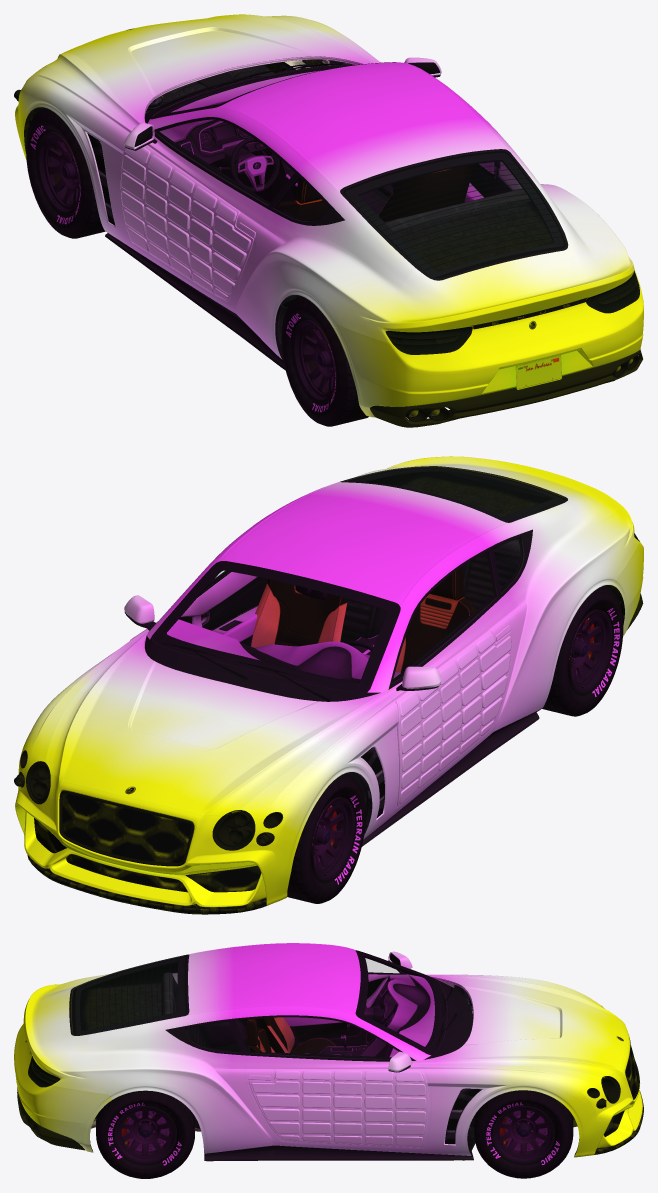
File: paragon2.glb
The picture shows the model from 3 angles, top to bottom: view 1: azimuth 30°, elevation 25°; view 2: azimuth 150°, elevation 25°; view 3: azimuth 270°, elevation 25°; orthographic projection. The views are drawn at different scales.
Visible parts, largest first — view 1: bodyshell, chassis, misc_g, windscreen_r, bonnet, boot, bumper_r, misc_x, wheel_lr, wheel_lf, misc_z, window_lf (+8 smaller); view 2: bodyshell, bonnet, misc_g, chassis, misc_x, misc_c, misc_r, misc_z, wheel_lf, wheel_lr, misc_d, windscreen_r (+7 smaller); view 3: bodyshell, bonnet, chassis, misc_y, misc_g, wheel_rf, wheel_rr, windscreen_r, window_rf, boot, bumper_r, door_pside_f (+8 smaller).
Boxes of the visible parts, bbox=[...] form: bodyshell: bbox=[15, 15, 639, 358]; chassis: bbox=[24, 59, 639, 360]; misc_g: bbox=[219, 62, 505, 189]; windscreen_r: bbox=[343, 151, 564, 278]; bonnet: bbox=[45, 14, 375, 127]; boot: bbox=[393, 233, 622, 362]; bumper_r: bbox=[334, 283, 643, 421]; misc_x: bbox=[120, 145, 253, 301]; wheel_lr: bbox=[281, 295, 368, 426]; wheel_lf: bbox=[26, 108, 105, 238]; misc_z: bbox=[154, 66, 564, 277]; window_lf: bbox=[157, 120, 293, 204]; bodyshell: bbox=[15, 458, 639, 914]; bonnet: bbox=[45, 632, 389, 816]; misc_g: bbox=[219, 482, 505, 605]; chassis: bbox=[19, 466, 639, 849]; misc_x: bbox=[395, 630, 511, 806]; misc_c: bbox=[24, 811, 266, 907]; misc_r: bbox=[251, 567, 476, 672]; misc_z: bbox=[153, 468, 563, 691]; wheel_lf: bbox=[287, 773, 365, 903]; wheel_lr: bbox=[542, 585, 623, 716]; misc_d: bbox=[61, 792, 191, 863]; windscreen_r: bbox=[346, 467, 564, 521]; bodyshell: bbox=[28, 943, 643, 1157]; bonnet: bbox=[417, 975, 625, 1077]; chassis: bbox=[28, 951, 620, 1159]; misc_y: bbox=[249, 1069, 428, 1147]; misc_g: bbox=[188, 943, 360, 1015]; wheel_rf: bbox=[474, 1090, 573, 1178]; wheel_rr: bbox=[96, 1090, 194, 1178]; windscreen_r: bbox=[71, 956, 187, 1034]; window_rf: bbox=[235, 1018, 397, 1058]; boot: bbox=[17, 981, 88, 1078]; bumper_r: bbox=[14, 1024, 112, 1152]; door_pside_f: bbox=[245, 1051, 431, 1149].
Size of the model in its own units: 2.12 by 1.41 by 4.98.
Materials: 25 (25 with a texture image).
